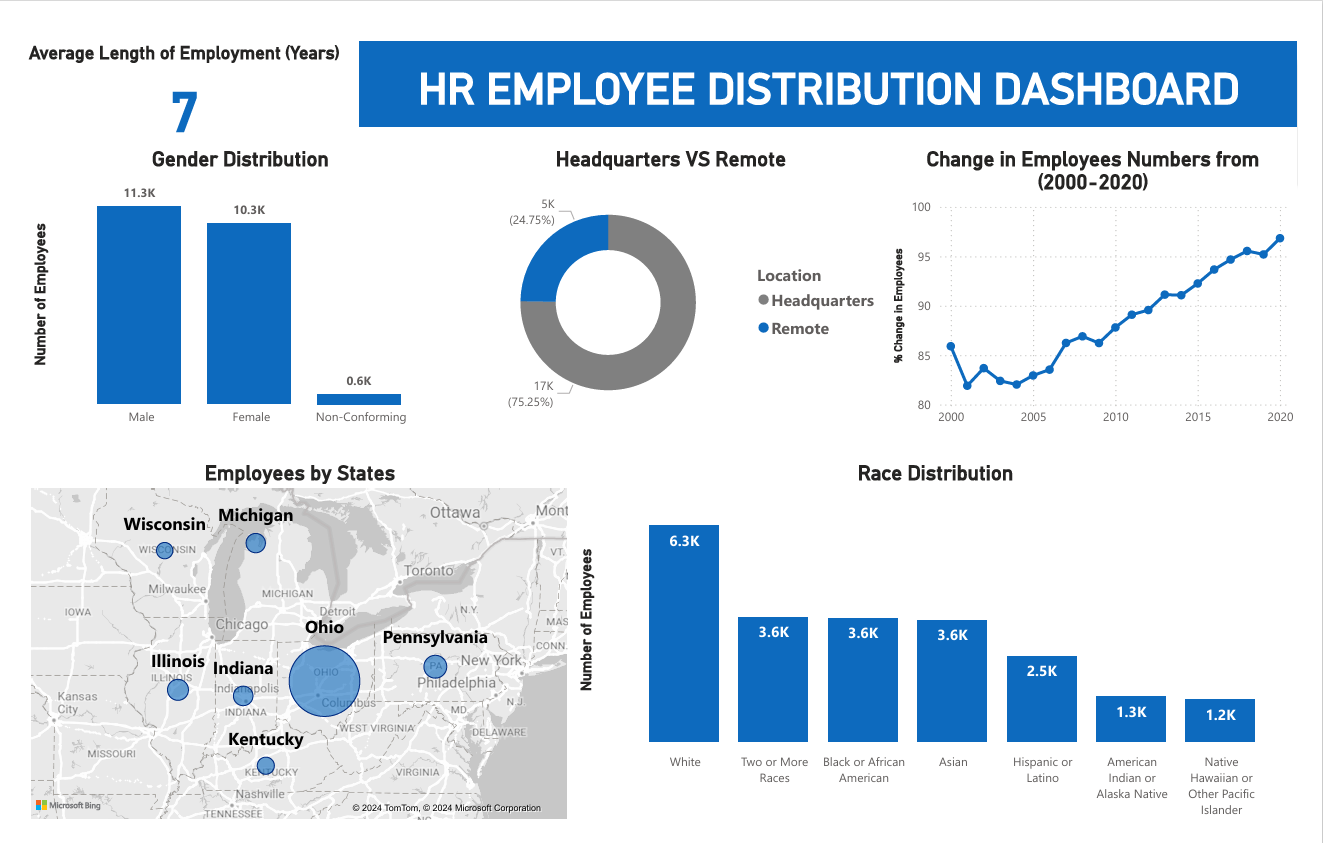

This screenshot's page, from the dashboard's own definition file:
{"tool":"powerbi","page":{"name":"Page 1","canvas":[1280,800],"ordinal":0},"visuals":[{"type":"textbox","box":[341.8,17.4,938.3,85.8],"z":0},{"type":"card","title":"Average Length of Employment (Years)","fields":{"Values":["Sum(5  Average_Length_of_Employment_for_Terminated_Employees.Average_Length_of_Employment_for_Terminated_Employ"]},"box":[0,17.4,332.4,104.6],"z":1000},{"type":"columnChart","title":"Gender Distribution","fields":{"Category":["1  Gender_Breakdown_of_Employees_in_the_Company.Gender"],"Y":["Sum(1  Gender_Breakdown_of_Employees_in_the_Company.Count_Gender)"]},"box":[9.4,122,426.3,288.2],"z":2000},{"type":"donutChart","title":"Headquarters VS Remote","fields":{"Y":["Sum(4  Headquarters_vs_Remote_Employees_Count.Count)"],"Category":["4  Headquarters_vs_Remote_Employees_Count.Location"]},"box":[435.7,122,434.3,288.2],"z":3000},{"type":"lineChart","title":"Change in Employees Numbers from (2000-2020)","fields":{"Category":["10  Employee_Count_Change_Over_Time_Hire_and_Term_Dates (2).Year"],"Y":["Sum(10  Employee_Count_Change_Over_Time_Hire_and_Term_Dates (2).net_change_percent)"]},"box":[870,122,410.2,288.2],"z":4000},{"type":"map","title":"Employees by States","fields":{"Size":["Sum(9  Employee_Distribution_By_Location_and_State.Count)"],"Category":["9  Employee_Distribution_By_Location_and_State.location_state"]},"box":[9.4,435.7,545.6,364.6],"z":5000},{"type":"clusteredColumnChart","title":"Race Distribution","fields":{"Category":["2  Race_Ethnicity_Breakdown_of_Employees_in_the_Company.Race"],"Y":["Sum(2  Race_Ethnicity_Breakdown_of_Employees_in_the_Company.Count_Race)"]},"box":[555,435.7,725.2,364.6],"z":6000}]}

Visuals, with their boxes in screenshot pixels (x1, y1, x2, y2), scaled from the page's 1280x800 canvas onto the 1323x843 screenshot:
textbox: box(353, 18, 1322, 109)
"Average Length of Employment (Years)" card: box(0, 18, 344, 129)
"Gender Distribution" columnChart: box(10, 129, 450, 432)
"Headquarters VS Remote" donutChart: box(450, 129, 899, 432)
"Change in Employees Numbers from (2000-2020)" lineChart: box(899, 129, 1322, 432)
"Employees by States" map: box(10, 459, 574, 842)
"Race Distribution" clusteredColumnChart: box(574, 459, 1322, 842)
